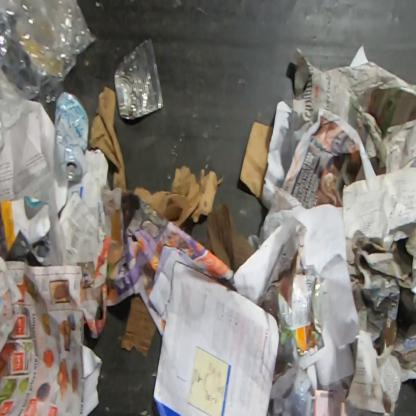cardboard: (132, 164, 224, 228), (276, 232, 317, 345), (89, 84, 128, 192), (239, 121, 274, 204)
metal: (113, 37, 164, 121), (54, 90, 90, 184)
soft_plastic: (0, 0, 100, 155), (272, 333, 310, 415)
